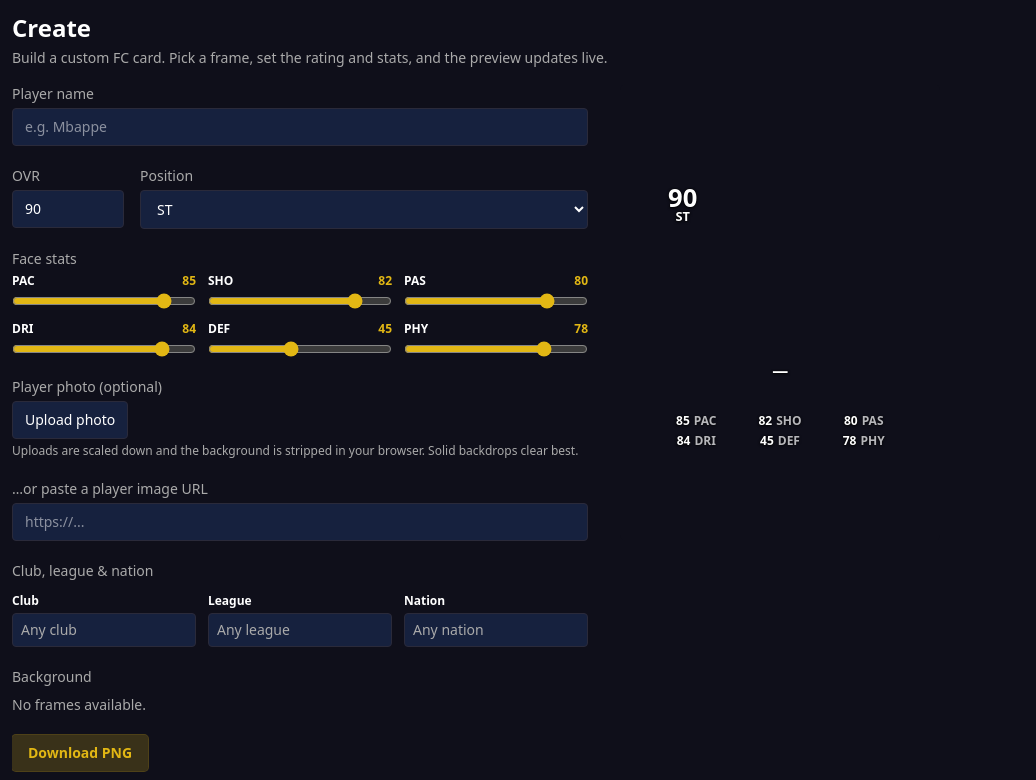
Test: stat labels switch to GK set when position is GK
expect the slider labelled "PAC" is shown: met, box [12,293,196,309]
Select "GK" in the dropdown labelled "Position": (364, 210) [140,190,588,229]
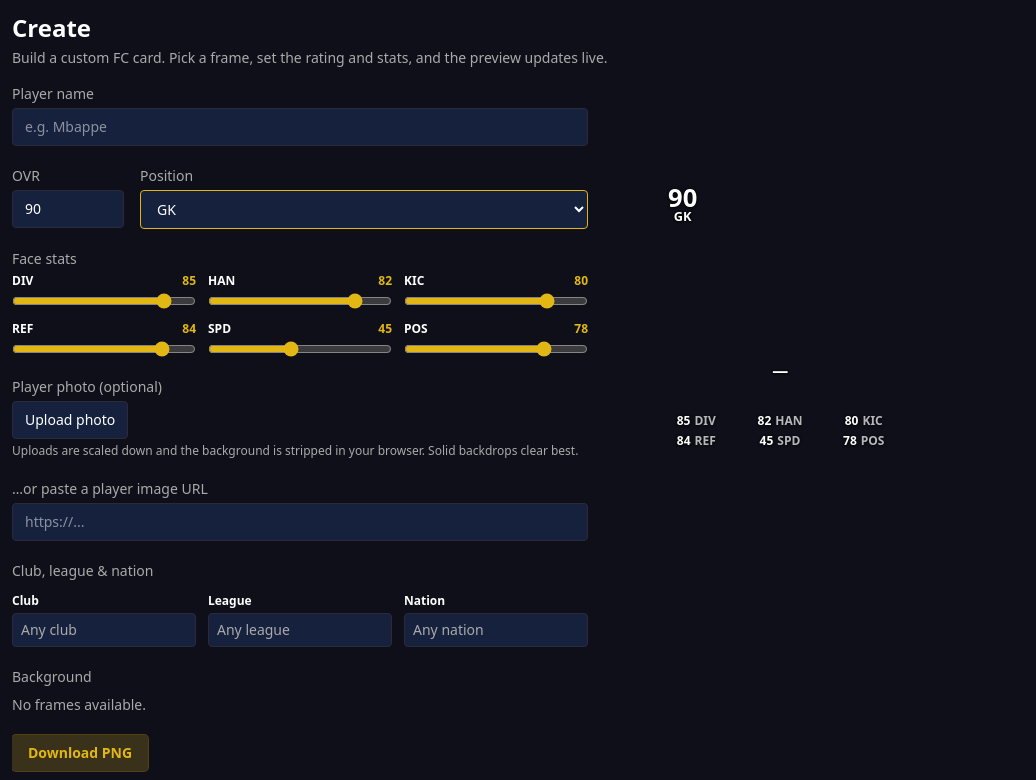
expect the slider labelled "DIV" is shown: met, box [12,293,196,309]
expect the text labelled "PAC" is gone: met
